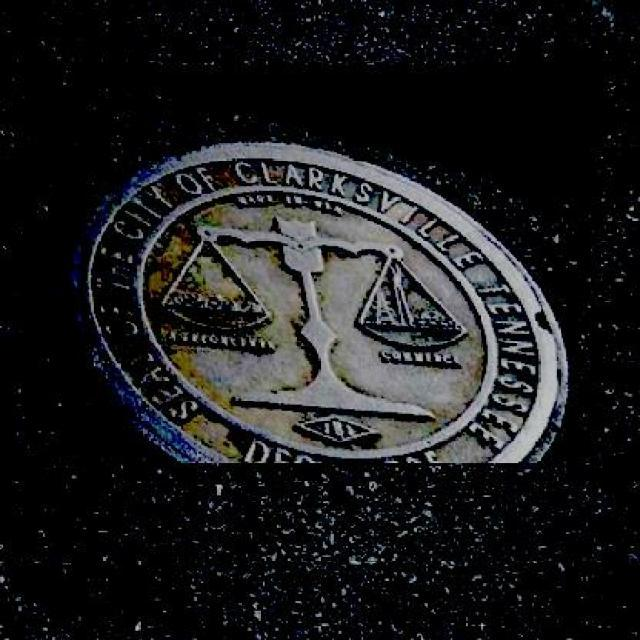Manhole: (47, 64, 598, 463)
